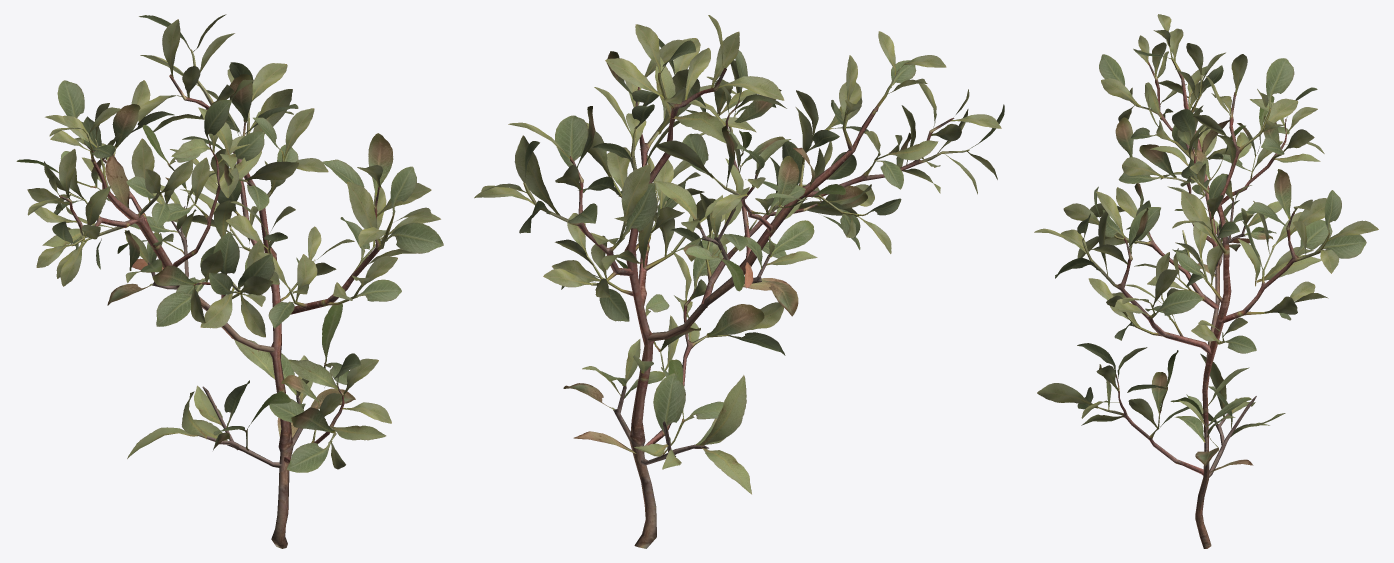
Rendered from shrub_04_d_LOD1.glb.
3 views of the same model, side by side, from view 1: azimuth 30°, elevation 25°; view 2: azimuth 150°, elevation 25°; view 3: azimuth 270°, elevation 25° (orthographic). The views are drawn at different scales.
Parts seen in each view (by area): view 1: shrub_04_d_LOD1__lod0; view 2: shrub_04_d_LOD1__lod0; view 3: shrub_04_d_LOD1__lod0.
Part boxes in pixels (bbox=[...]): shrub_04_d_LOD1__lod0: bbox=[16, 14, 443, 548]; shrub_04_d_LOD1__lod0: bbox=[474, 15, 1004, 548]; shrub_04_d_LOD1__lod0: bbox=[1034, 14, 1378, 548].
Size of what is drawn, in the model's own units: 0.2178 by 0.2734 by 0.1869.
1 material, 1 textured.
